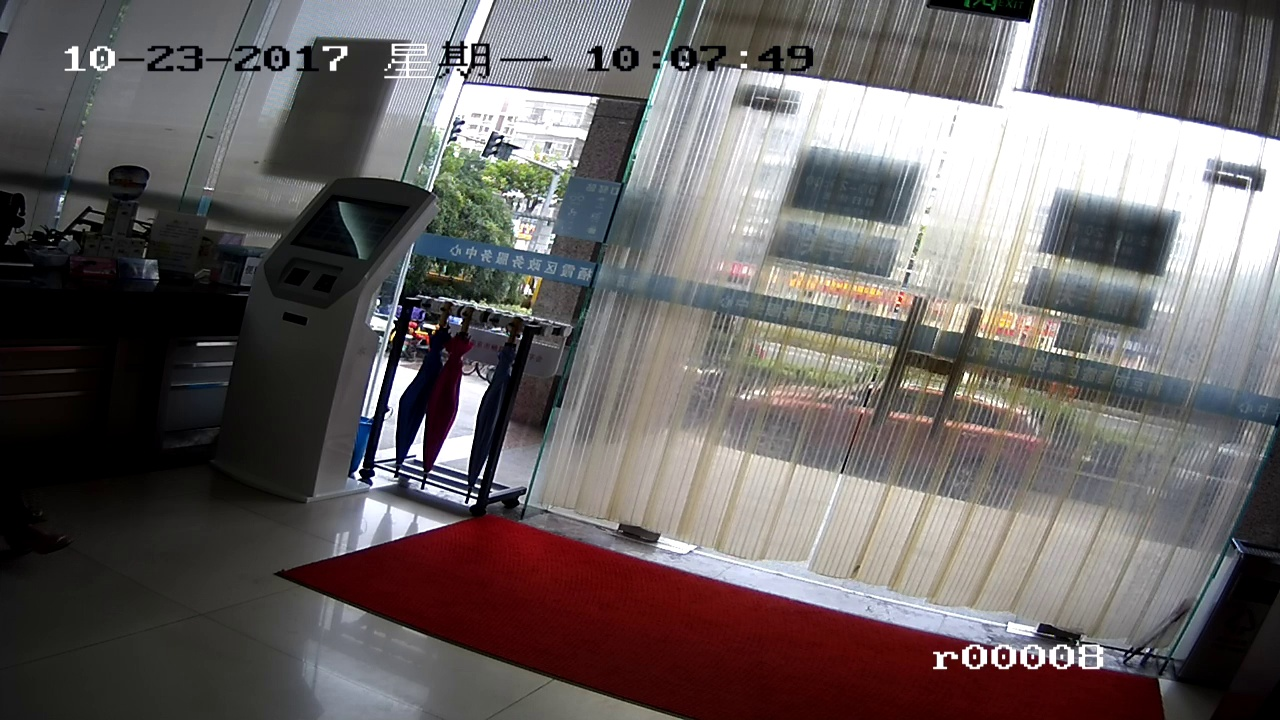monitor: (303, 188, 394, 257)
